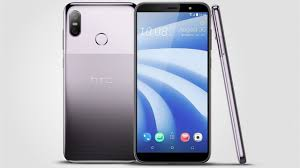htc: (59, 1, 140, 164), (132, 1, 213, 164)
